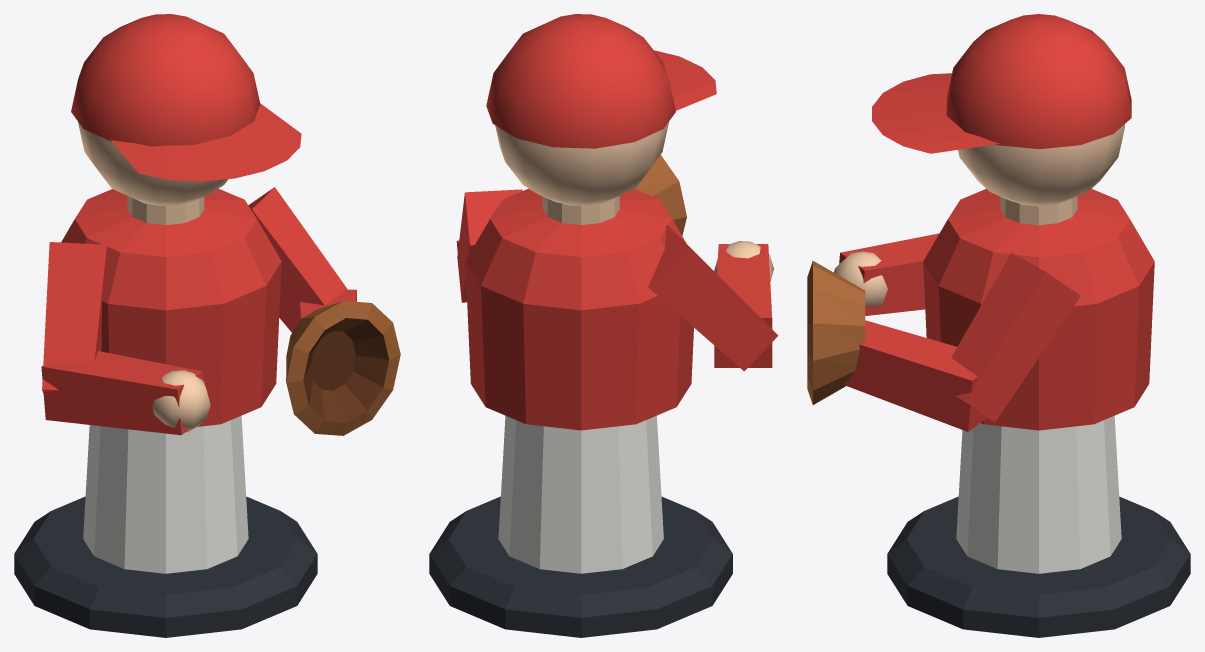
The model's file is fielder_red.obj.
The picture shows the model from 3 angles, left to right: view 1: azimuth 30°, elevation 25°; view 2: azimuth 150°, elevation 25°; view 3: azimuth 270°, elevation 25°; orthographic projection.
Visible parts, largest first — view 1: team_red, fig_base, pants, skin, glove_pocket, glove; view 2: team_red, fig_base, pants, skin, glove; view 3: team_red, fig_base, pants, skin, glove.
Part boxes in pixels (x1,y1,x2,y2): team_red: [41, 14, 356, 435]; fig_base: [14, 496, 317, 637]; pants: [83, 415, 248, 573]; skin: [78, 122, 228, 432]; glove_pocket: [303, 318, 388, 422]; glove: [286, 301, 400, 435]; team_red: [456, 14, 778, 430]; fig_base: [429, 496, 732, 637]; pants: [498, 415, 663, 573]; skin: [495, 122, 773, 281]; glove: [635, 155, 686, 235]; team_red: [839, 14, 1154, 431]; fig_base: [887, 496, 1190, 637]; pants: [956, 416, 1121, 573]; skin: [834, 124, 1124, 306]; glove: [807, 261, 865, 404].
Bounding box in the file's own units: 1.34 × 2.2 × 1.39.
